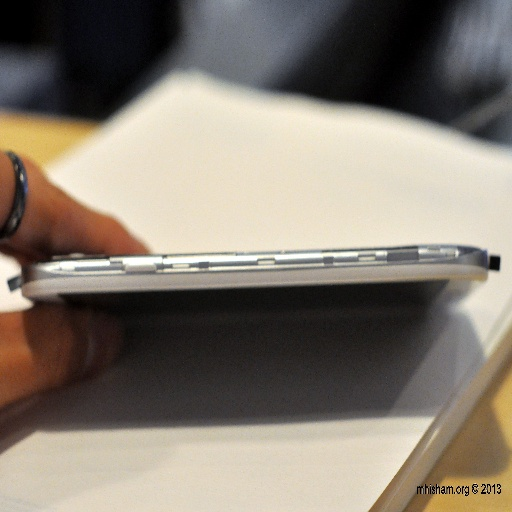hand: (11, 146, 132, 260)
